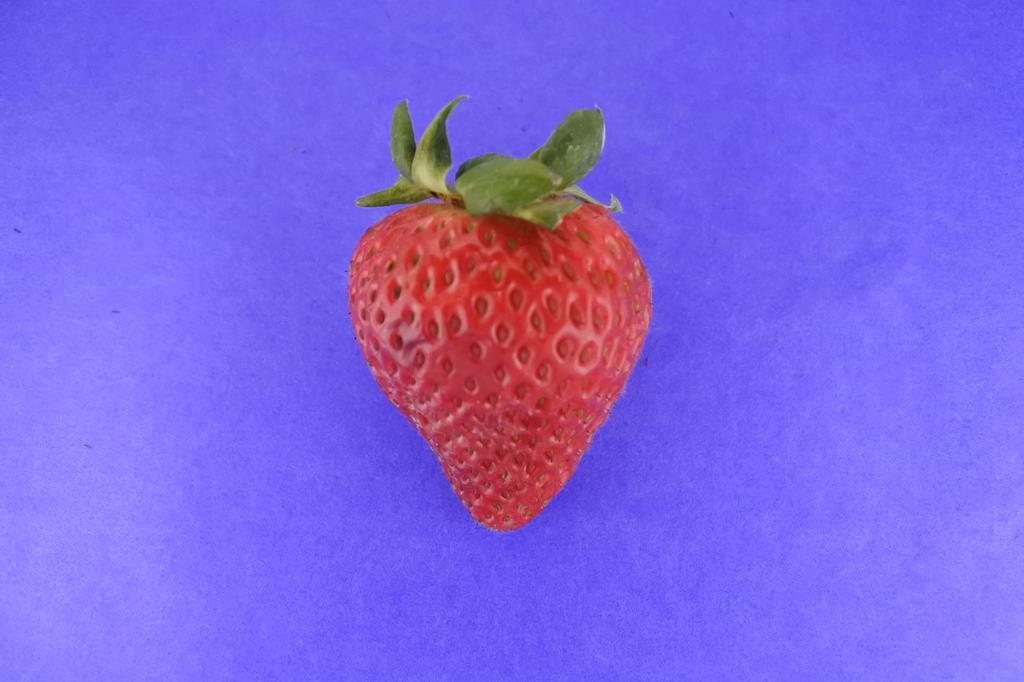red strawberry: (346, 95, 653, 533)
